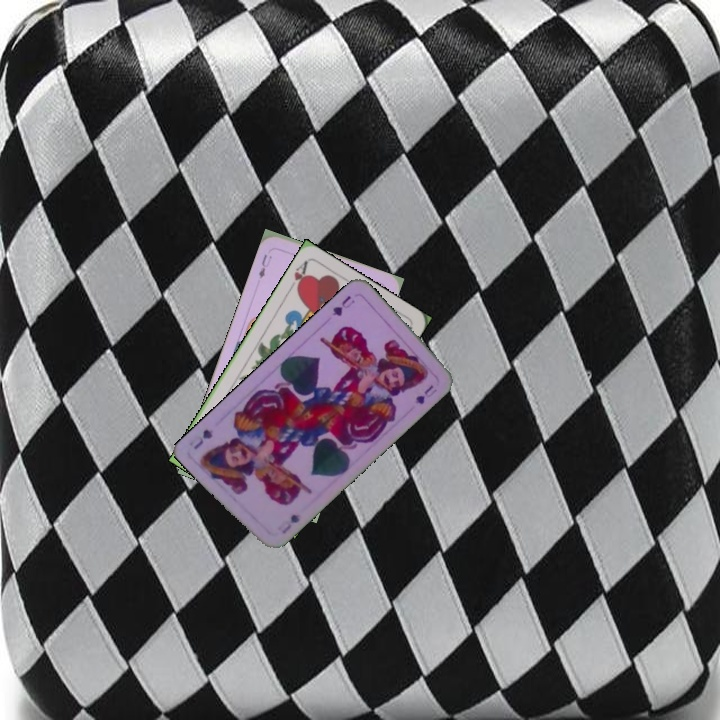EU: (255, 250, 274, 281)
GU: (328, 291, 358, 319), (273, 510, 303, 536)
HA: (284, 257, 310, 295)
